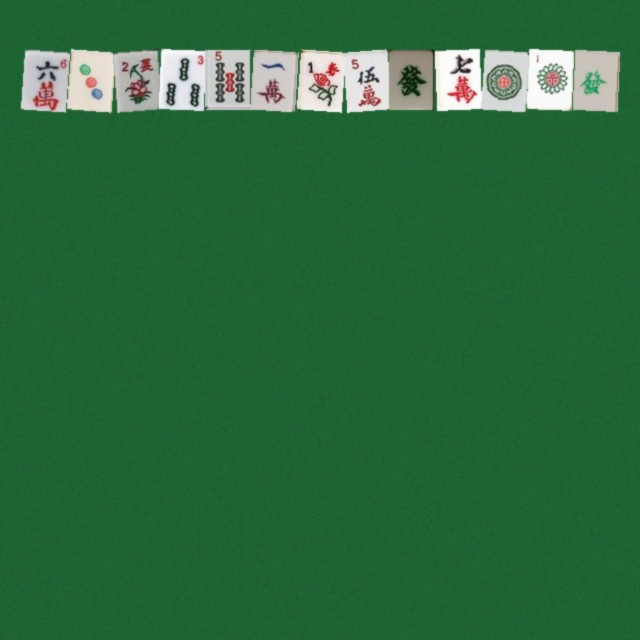tile: (20, 49, 65, 109), (66, 49, 111, 109), (112, 49, 157, 109), (158, 49, 203, 109), (204, 49, 249, 109), (250, 49, 295, 109), (296, 49, 341, 109), (342, 49, 387, 109), (388, 49, 433, 109), (434, 49, 479, 109), (480, 49, 525, 109), (526, 49, 571, 109), (572, 49, 617, 109)
